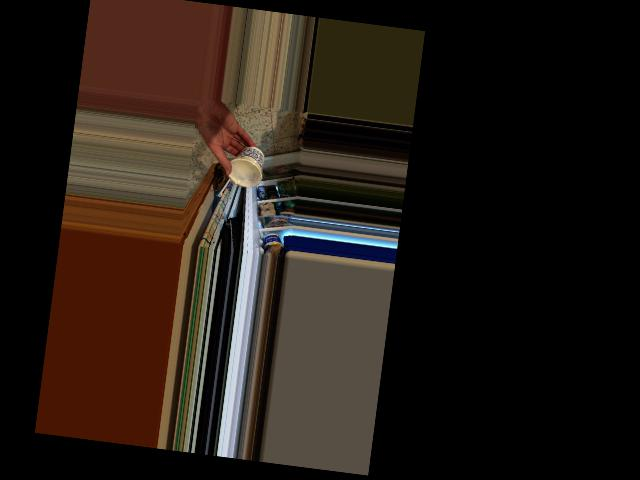cotage: (225, 145, 263, 183)
